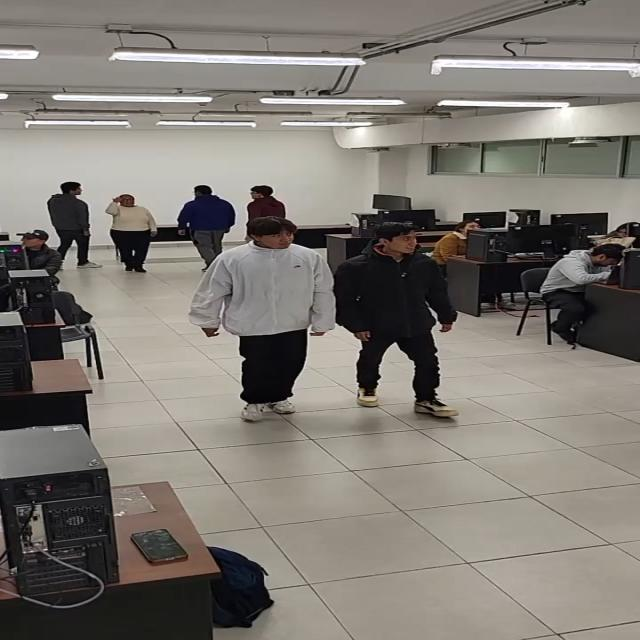Persona: (208, 216, 342, 412), (341, 222, 461, 421), (50, 180, 101, 266), (109, 194, 157, 270), (188, 183, 232, 250), (241, 178, 296, 220)
